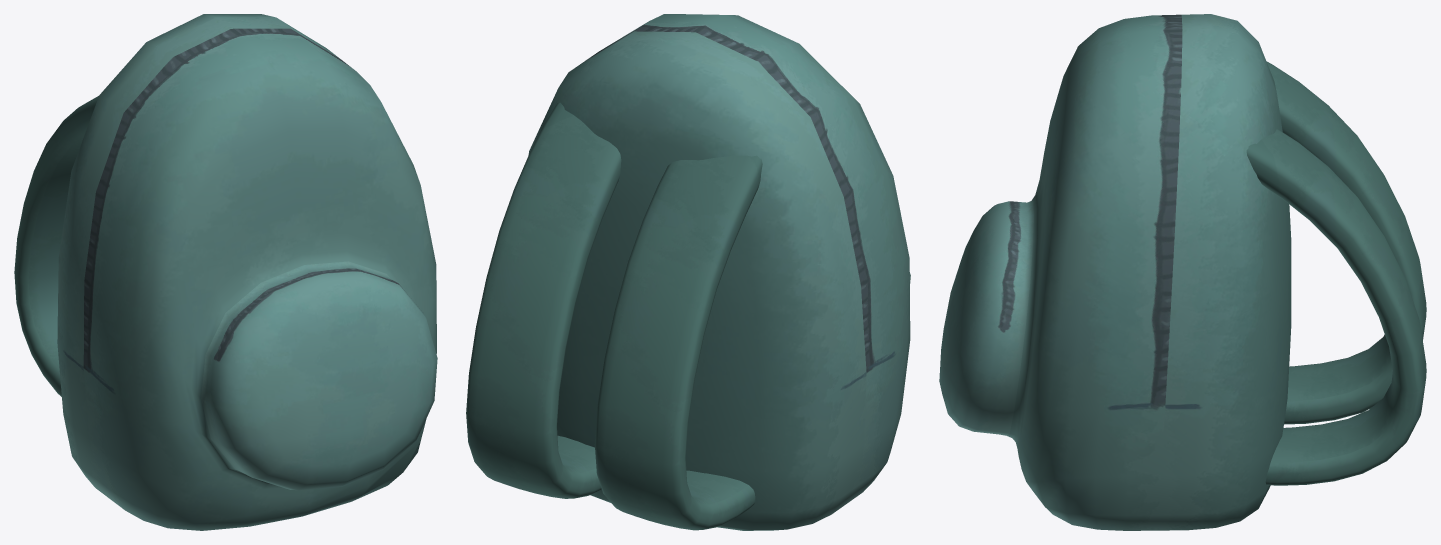
File: school_bag.fbx
3 views of the same model, side by side, from view 1: azimuth 30°, elevation 25°; view 2: azimuth 150°, elevation 25°; view 3: azimuth 270°, elevation 25° (orthographic). The views are drawn at different scales.
Parts seen in each view (by area): view 1: pCube31, pCube32; view 2: pCube31, pCube32, pCube35; view 3: pCube31, pCube35, pCube32.
Boxes of the visible parts, box(x1,y1,x2,y2) form: pCube31: box(57, 14, 437, 530); pCube32: box(14, 96, 98, 396); pCube31: box(528, 14, 910, 530); pCube32: box(594, 155, 762, 530); pCube35: box(466, 102, 621, 498); pCube31: box(939, 14, 1291, 530); pCube35: box(1246, 129, 1426, 485); pCube32: box(1266, 61, 1426, 424).
Size of the model in its own units: 17.93 by 24.09 by 23.96.
Materials: 2 (2 with a texture image).
